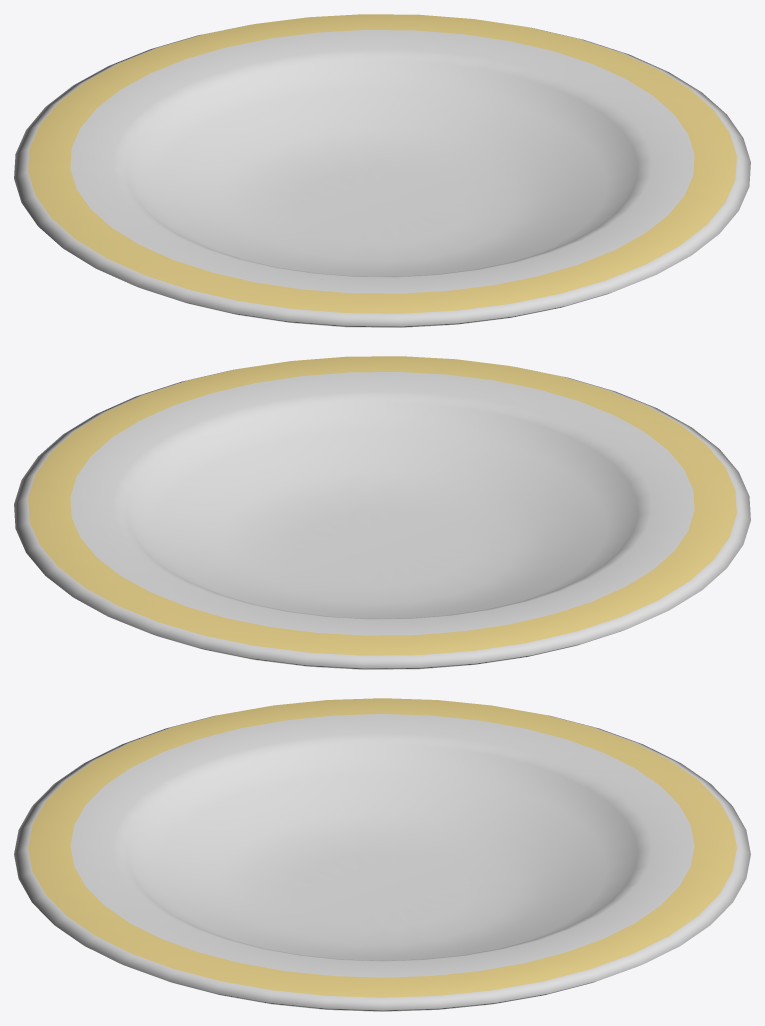
Rendered from Plate.fbx.
3 views of the same model, one above another, from view 1: azimuth 30°, elevation 25°; view 2: azimuth 150°, elevation 25°; view 3: azimuth 270°, elevation 25° (orthographic).
Parts seen in each view (by area): view 1: pCylinder9; view 2: pCylinder9; view 3: pCylinder9.
Boxes of the visible parts, box(x1,y1,x2,y2) form: pCylinder9: box(14, 14, 750, 327); pCylinder9: box(14, 356, 750, 669); pCylinder9: box(14, 698, 750, 1011).
Size of the model in its own units: 1.98 by 0.2453 by 1.98.
